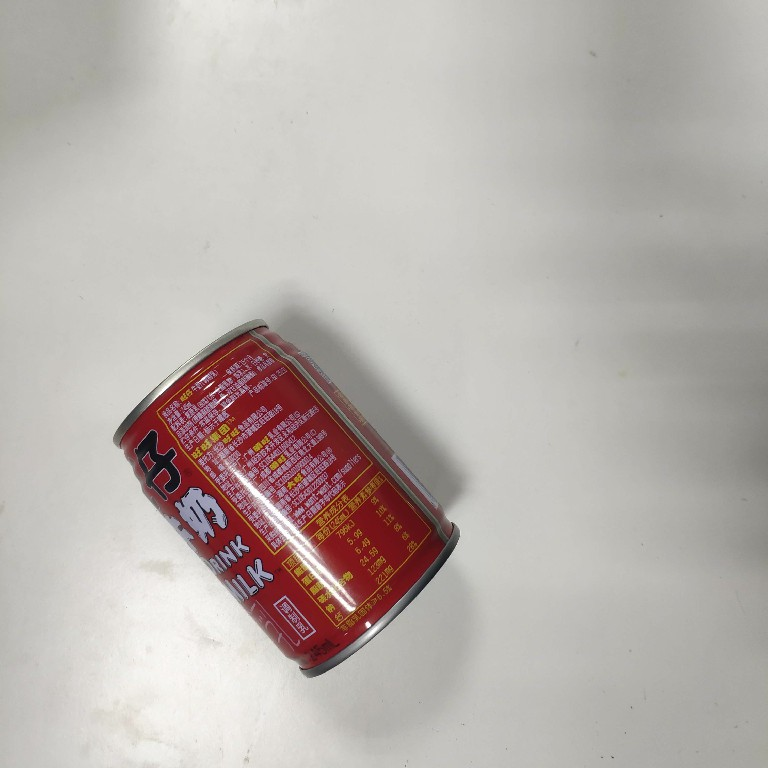can: (107, 313, 463, 684)
